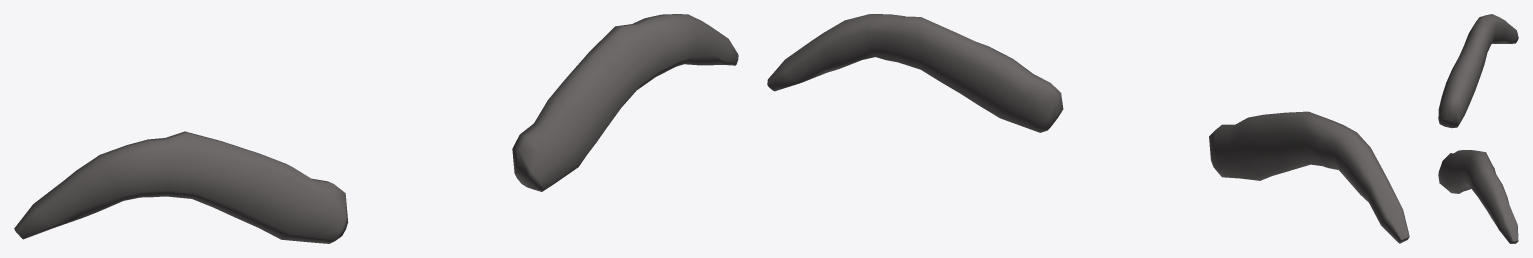
File: Eyebrows_19_04.fbx
3 views of the same model, side by side, from view 1: azimuth 30°, elevation 25°; view 2: azimuth 150°, elevation 25°; view 3: azimuth 270°, elevation 25° (orthographic). The views are drawn at different scales.
Parts seen in each view (by area): view 1: Eyebrows_19_04; view 2: Eyebrows_19_04; view 3: Eyebrows_19_04.
Part boxes in pixels (bbox=[...]): Eyebrows_19_04: bbox=[14, 14, 738, 243]; Eyebrows_19_04: bbox=[767, 14, 1409, 243]; Eyebrows_19_04: bbox=[1438, 14, 1518, 243].
Bounding box in the file's own units: 18.29 × 2.86 × 3.02.
